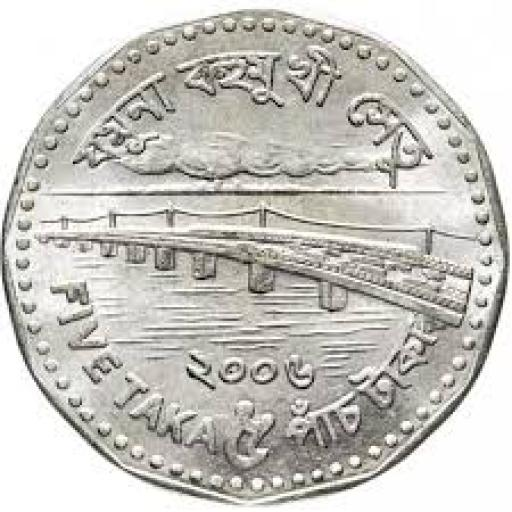5taka: (5, 9, 510, 503)
